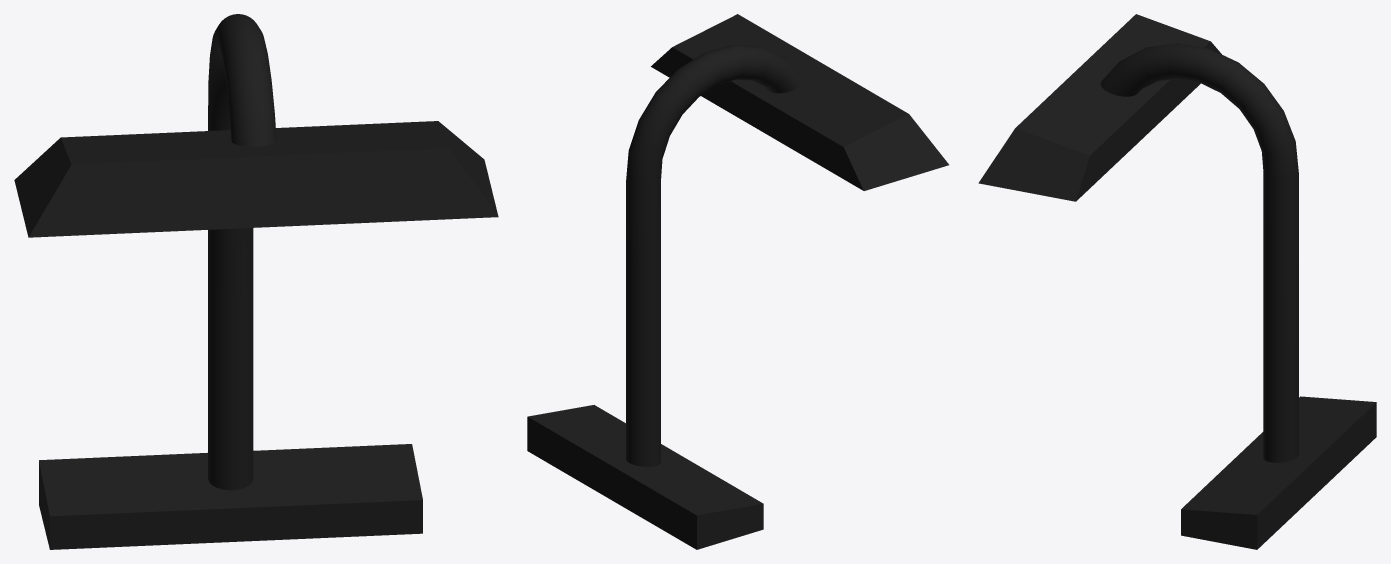
File: Lamp.fbx
3 views of the same model, side by side, from view 1: azimuth 30°, elevation 25°; view 2: azimuth 150°, elevation 25°; view 3: azimuth 270°, elevation 25° (orthographic). The views are drawn at different scales.
Visible parts, largest first — view 1: Lamp; view 2: Lamp; view 3: Lamp.
Part boxes in pixels (x1=…): Lamp: x1=14, y1=14, x2=498, y2=549; Lamp: x1=527, y1=14, x2=948, y2=549; Lamp: x1=978, y1=14, x2=1376, y2=549.
Size of the model in its own units: 65.52 by 72.79 by 62.19.
